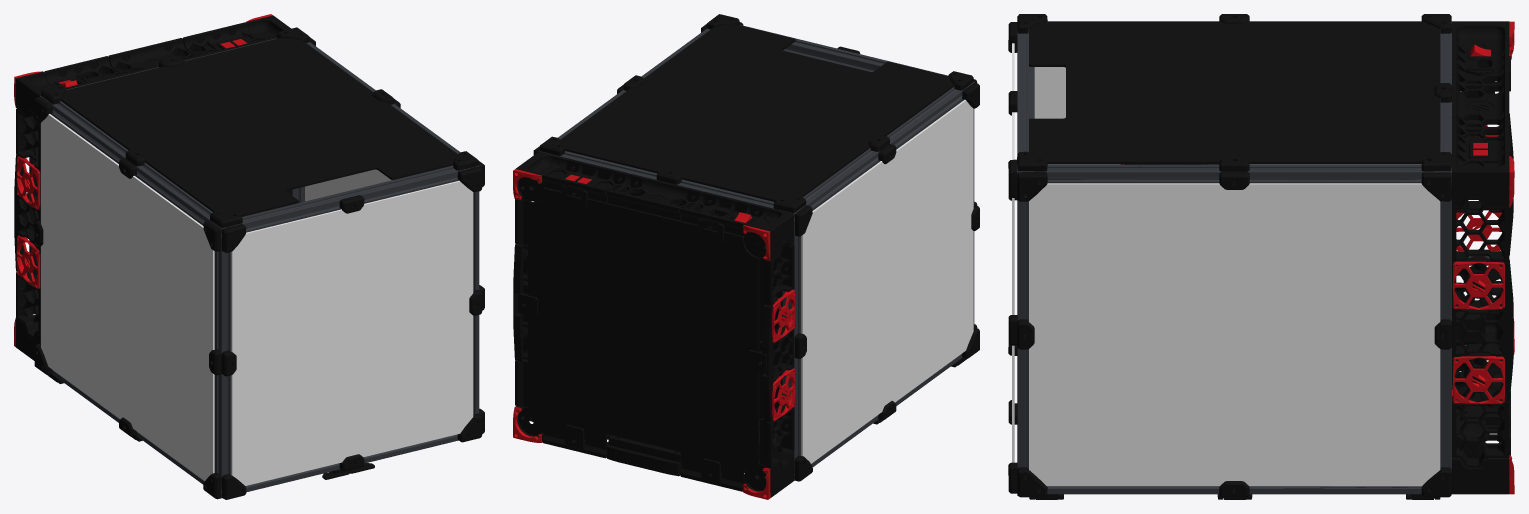
The model's file is trident.glb.
3 views of the same model, side by side, from view 1: azimuth 30°, elevation 25°; view 2: azimuth 150°, elevation 25°; view 3: azimuth 270°, elevation 25° (orthographic). The views are drawn at different scales.
Parts seen in each view (by area): view 1: glass__f0f0f0, panels__141518, frame__383b40, frame__141518, frame__c4161c; view 2: panels__141518, glass__f0f0f0, frame__141518, frame__383b40, frame__c4161c; view 3: glass__f0f0f0, panels__141518, frame__141518, frame__383b40, frame__c4161c.
Part boxes in pixels (x1,y1,x2,y2): glass__f0f0f0: (41,114,473,485); panels__141518: (29,27,484,499); frame__383b40: (40,38,479,497); frame__141518: (14,15,290,360); frame__c4161c: (14,14,272,346); panels__141518: (518,14,979,482); glass__f0f0f0: (801,100,973,463); frame__141518: (513,151,794,497); frame__383b40: (526,25,974,480); frame__c4161c: (513,169,795,499); glass__f0f0f0: (1012,43,1440,486); panels__141518: (1008,14,1510,499); frame__141518: (1125,21,1513,494); frame__383b40: (1017,21,1501,494); frame__c4161c: (1121,21,1514,494).
Bounding box in the file's own units: 430 × 431 × 582.
